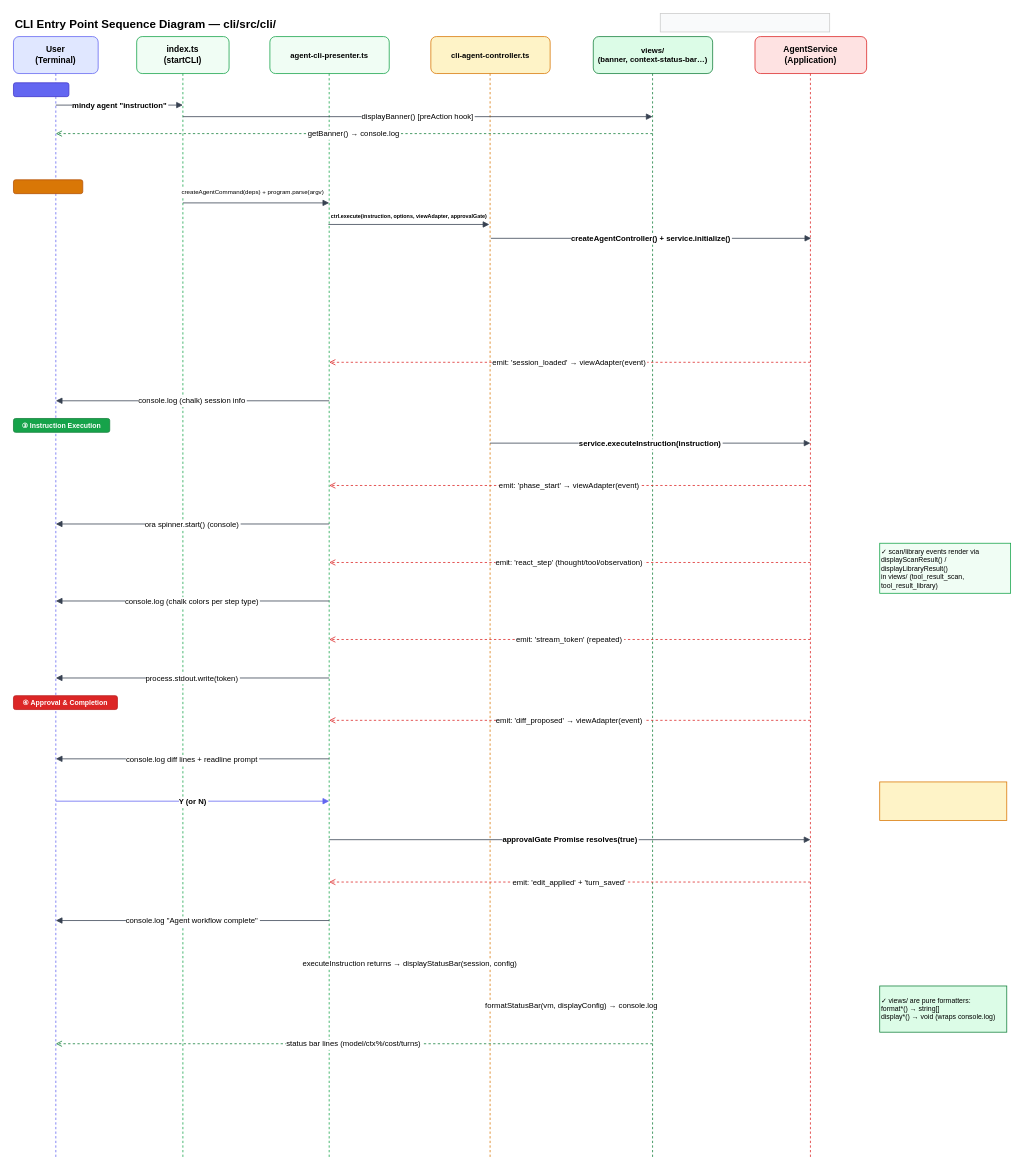
The diagram is 1024 pixels wide and 1173 high, and some of its shapes have lost their labels. The centre of each missing label's shape, as x and y in pixels:
① App Start: the point at 41,89
② Service Setup: the point at 48,186
─── sync call - - - ▷ event/return: the point at 745,22
⚠ approvalGate: readline.createInterface() blocks until user presses Enter: the point at 943,800
